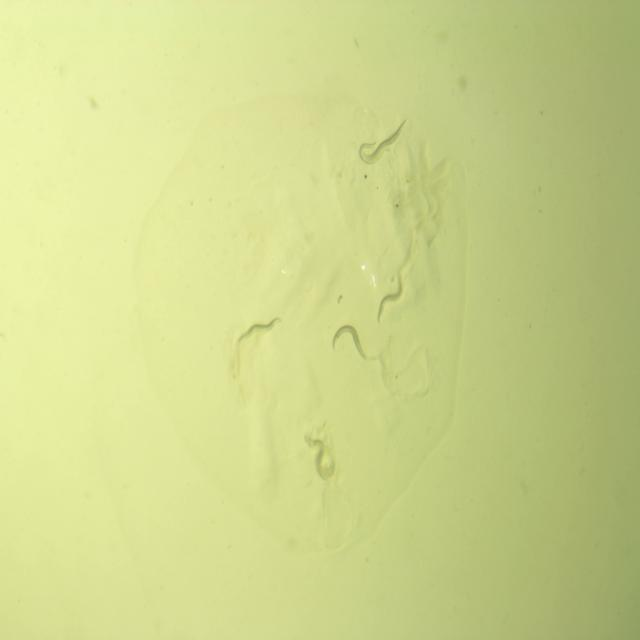worm: (234, 300, 286, 359), (358, 111, 413, 162), (316, 320, 373, 368), (302, 428, 340, 486), (374, 267, 406, 328), (353, 136, 394, 170)
